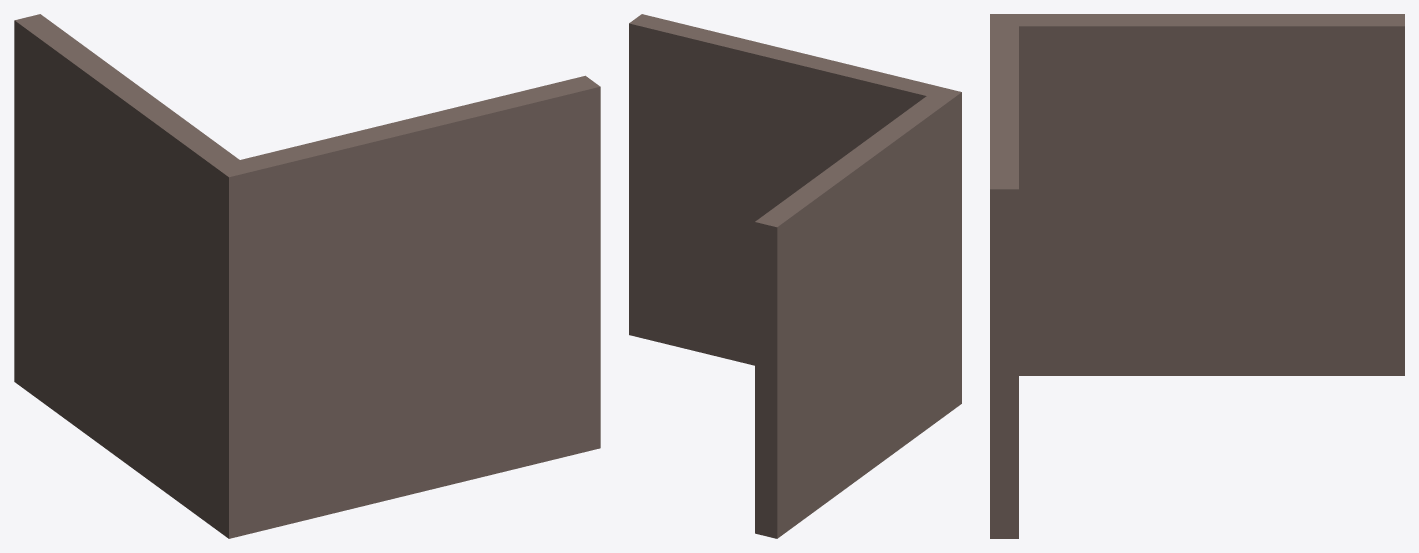
The model's file is Village_Wall_2m_Stone_Corner.fbx.
The picture shows the model from 3 angles, left to right: view 1: azimuth 30°, elevation 25°; view 2: azimuth 150°, elevation 25°; view 3: azimuth 270°, elevation 25°; orthographic projection. The views are drawn at different scales.
Visible parts, largest first — view 1: Village_Wall_2m_Corner_A.042; view 2: Village_Wall_2m_Corner_A.042; view 3: Village_Wall_2m_Corner_A.042.
Part boxes in pixels (x1=…): Village_Wall_2m_Corner_A.042: x1=14, y1=14, x2=600, y2=538; Village_Wall_2m_Corner_A.042: x1=629, y1=14, x2=961, y2=538; Village_Wall_2m_Corner_A.042: x1=990, y1=14, x2=1404, y2=538.
Bounding box in the file's own units: 215 × 200 × 215.
